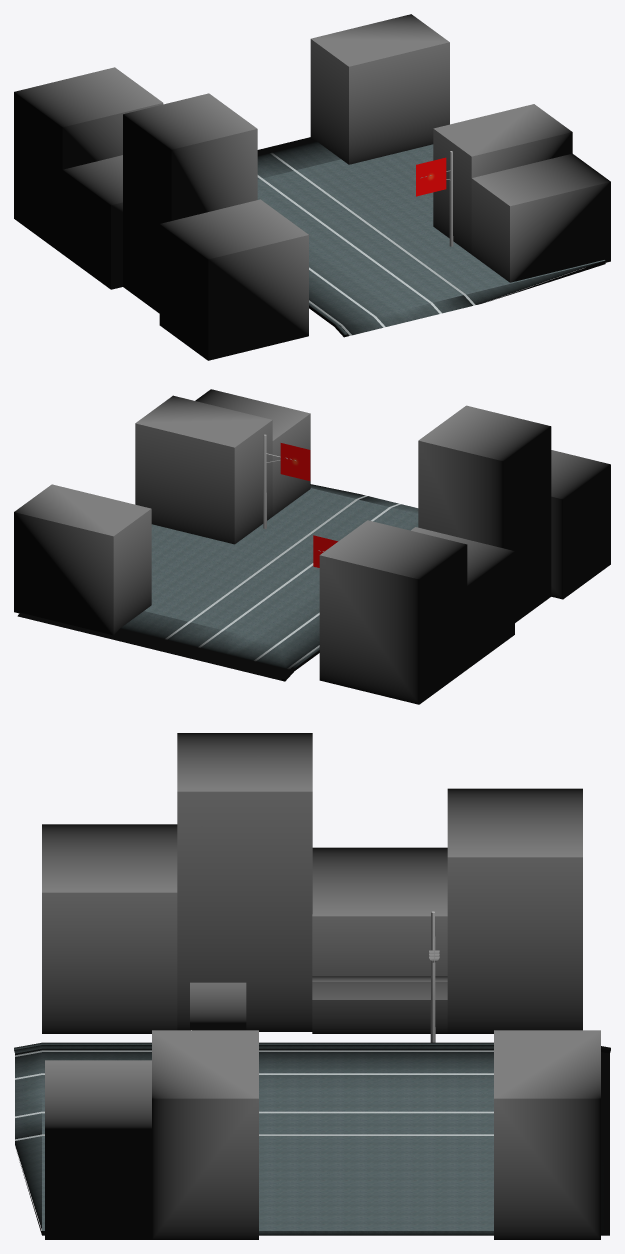
Rendered from K_KAMISAKA_ROMEN.glb.
The picture shows the model from 3 angles, top to bottom: view 1: azimuth 30°, elevation 25°; view 2: azimuth 150°, elevation 25°; view 3: azimuth 270°, elevation 25°; orthographic projection. The views are drawn at different scales.
Parts seen in each view (by area): view 1: obj3; view 2: obj3; view 3: obj3.
Part boxes in pixels (x1,y1,x2,y2): obj3: [14, 14, 610, 360]; obj3: [14, 389, 610, 704]; obj3: [14, 733, 610, 1239].
Bounding box in the file's own units: 120 × 49.09 × 110.
Materials: 4 (4 with a texture image).
